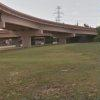Bridge: (14, 2, 99, 53)
